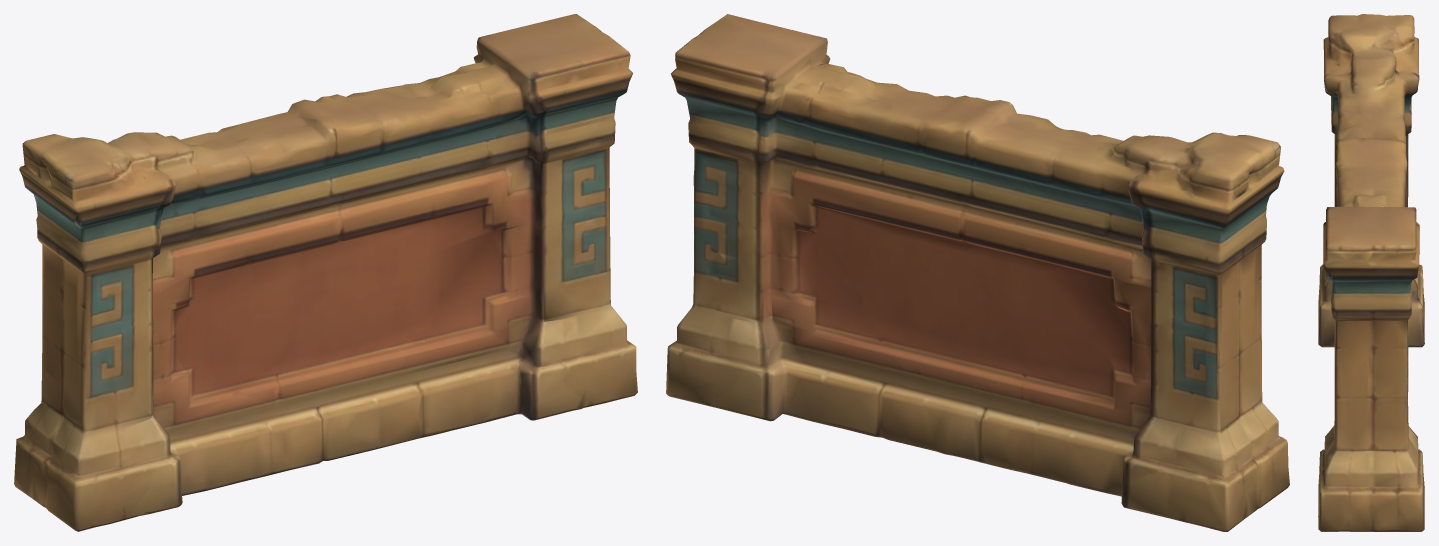
File: SM_Env_DesertWall.glb
3 views of the same model, side by side, from view 1: azimuth 30°, elevation 25°; view 2: azimuth 150°, elevation 25°; view 3: azimuth 270°, elevation 25° (orthographic). The views are drawn at different scales.
Parts seen in each view (by area): view 1: SM_Env_DesertWall_LOD0; view 2: SM_Env_DesertWall_LOD0; view 3: SM_Env_DesertWall_LOD0.
Part boxes in pixels (left/top/right/bottom): SM_Env_DesertWall_LOD0: left=14, top=14, right=637, bottom=531; SM_Env_DesertWall_LOD0: left=666, top=14, right=1289, bottom=531; SM_Env_DesertWall_LOD0: left=1318, top=14, right=1424, bottom=531.
Bounding box in the file's own units: 7.09 × 4.26 × 1.4.
1 material, 1 textured.
